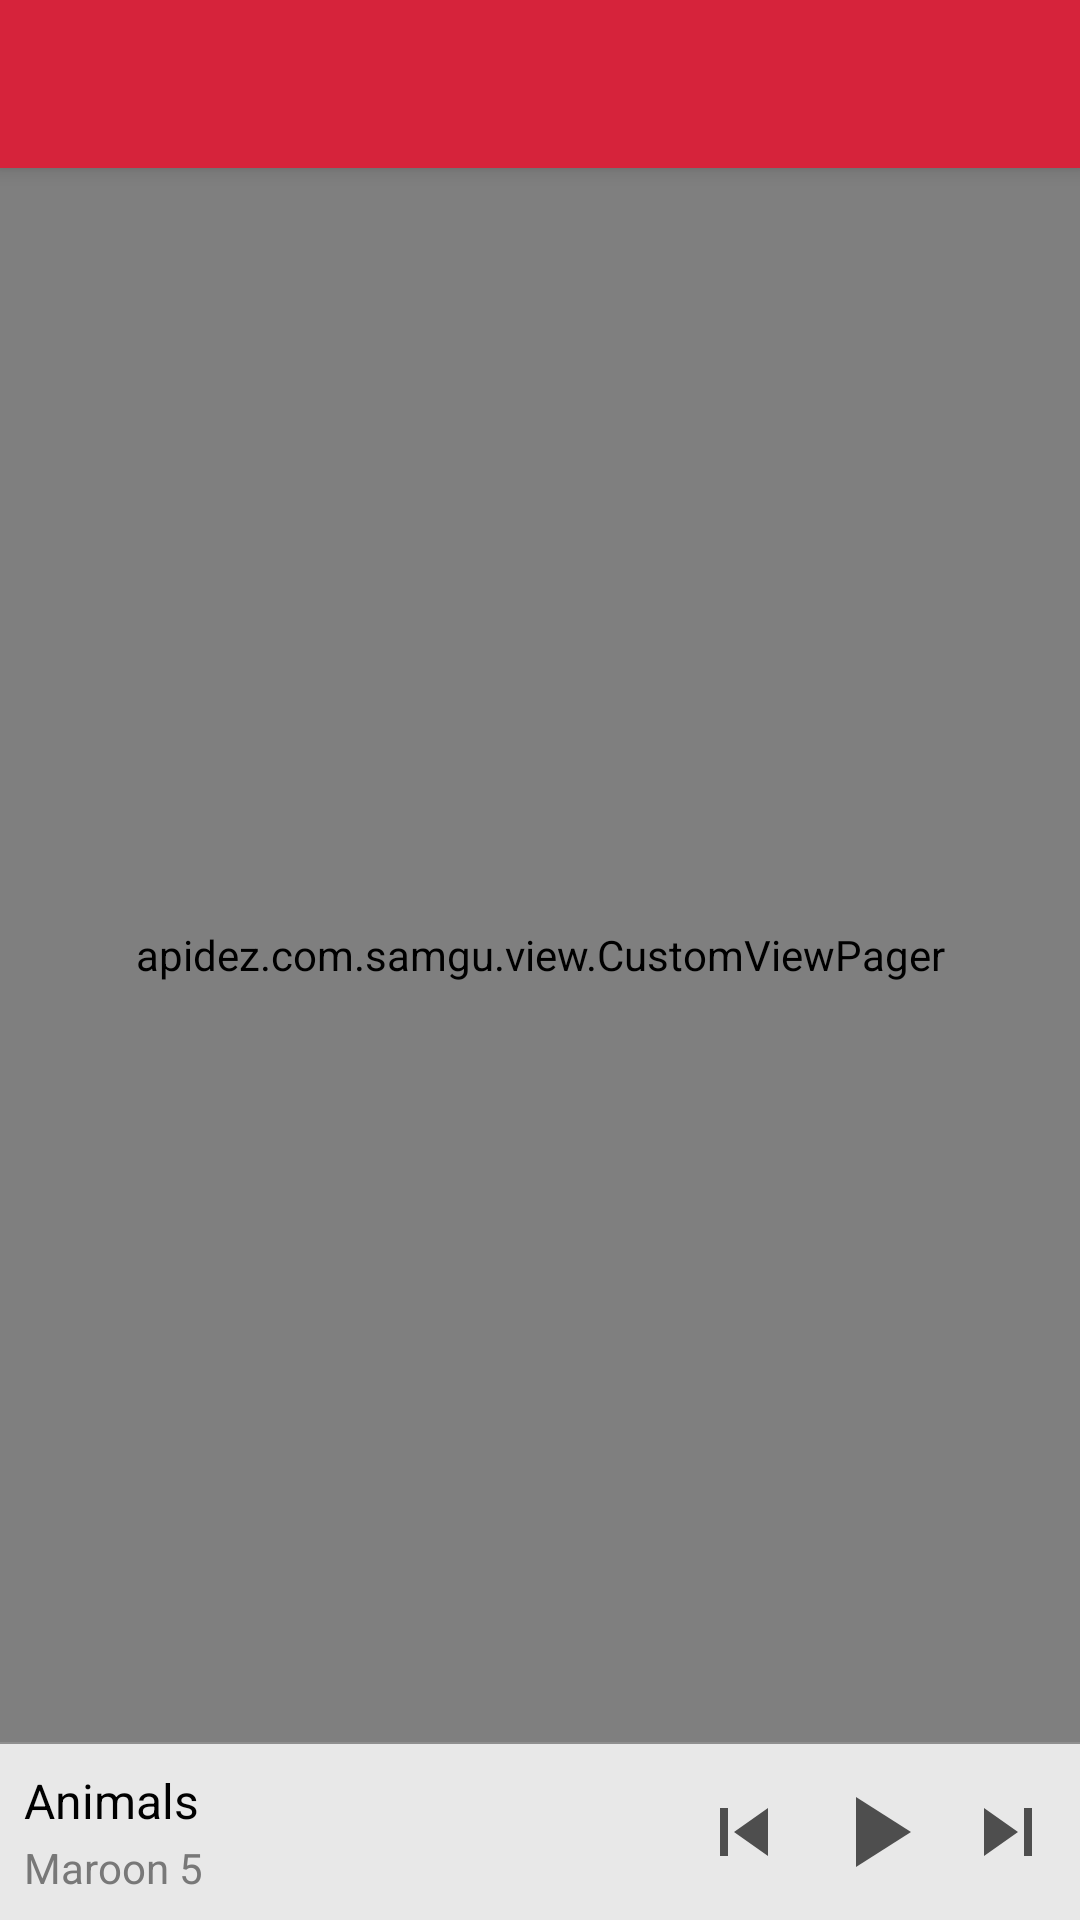

Screen size 1080w x 1920h. Icon name, then its box in pixels as (x1, y1, x2, y2):
play arrow: (856, 1797, 911, 1867)
skip next: (984, 1808, 1032, 1856)
skip previous: (720, 1808, 768, 1856)
